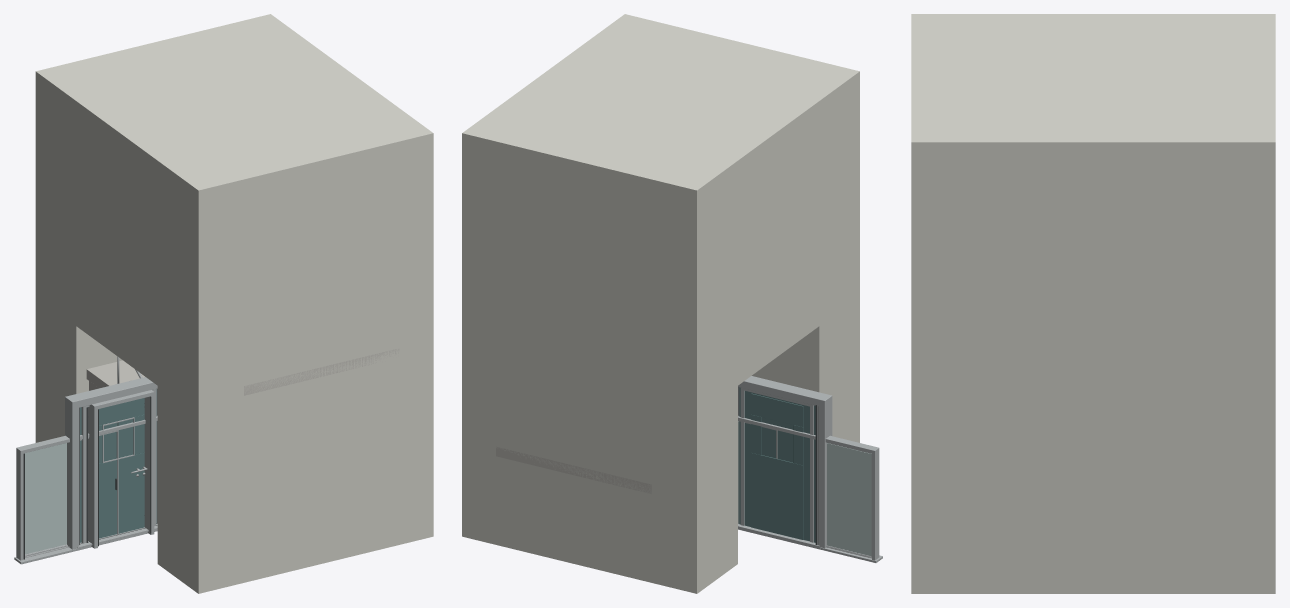
File: SchoolArchitecture.fbx
3 views of the same model, side by side, from view 1: azimuth 30°, elevation 25°; view 2: azimuth 150°, elevation 25°; view 3: azimuth 270°, elevation 25° (orthographic). The views are drawn at different scales.
Visible parts, largest first — view 1: SchoolStairwellVisualMesh, SchoolDoorGlazedMesh, SchoolWindowSlidingMesh, SchoolElevatorPortalMesh, SchoolDoorSolidMesh; view 2: SchoolStairwellVisualMesh, SchoolWindowSlidingMesh, SchoolDoorGlazedMesh, SchoolElevatorPortalMesh, SchoolDoorOpenMesh, SchoolDoorSolidMesh; view 3: SchoolStairwellVisualMesh.
Part boxes in pixels (left/top/right/bottom): SchoolStairwellVisualMesh: left=35, top=14, right=433, bottom=593; SchoolDoorGlazedMesh: left=88, top=390, right=154, bottom=548; SchoolWindowSlidingMesh: left=14, top=416, right=157, bottom=564; SchoolElevatorPortalMesh: left=65, top=377, right=157, bottom=549; SchoolDoorSolidMesh: left=81, top=389, right=155, bottom=543; SchoolStairwellVisualMesh: left=462, top=14, right=859, bottom=593; SchoolWindowSlidingMesh: left=738, top=416, right=882, bottom=562; SchoolDoorGlazedMesh: left=751, top=393, right=803, bottom=539; SchoolElevatorPortalMesh: left=738, top=376, right=832, bottom=548; SchoolDoorOpenMesh: left=739, top=387, right=815, bottom=542; SchoolDoorSolidMesh: left=740, top=388, right=813, bottom=542; SchoolStairwellVisualMesh: left=911, top=14, right=1275, bottom=593.
Bounding box in the file's own units: 5.7 × 6.6 × 4.8.
